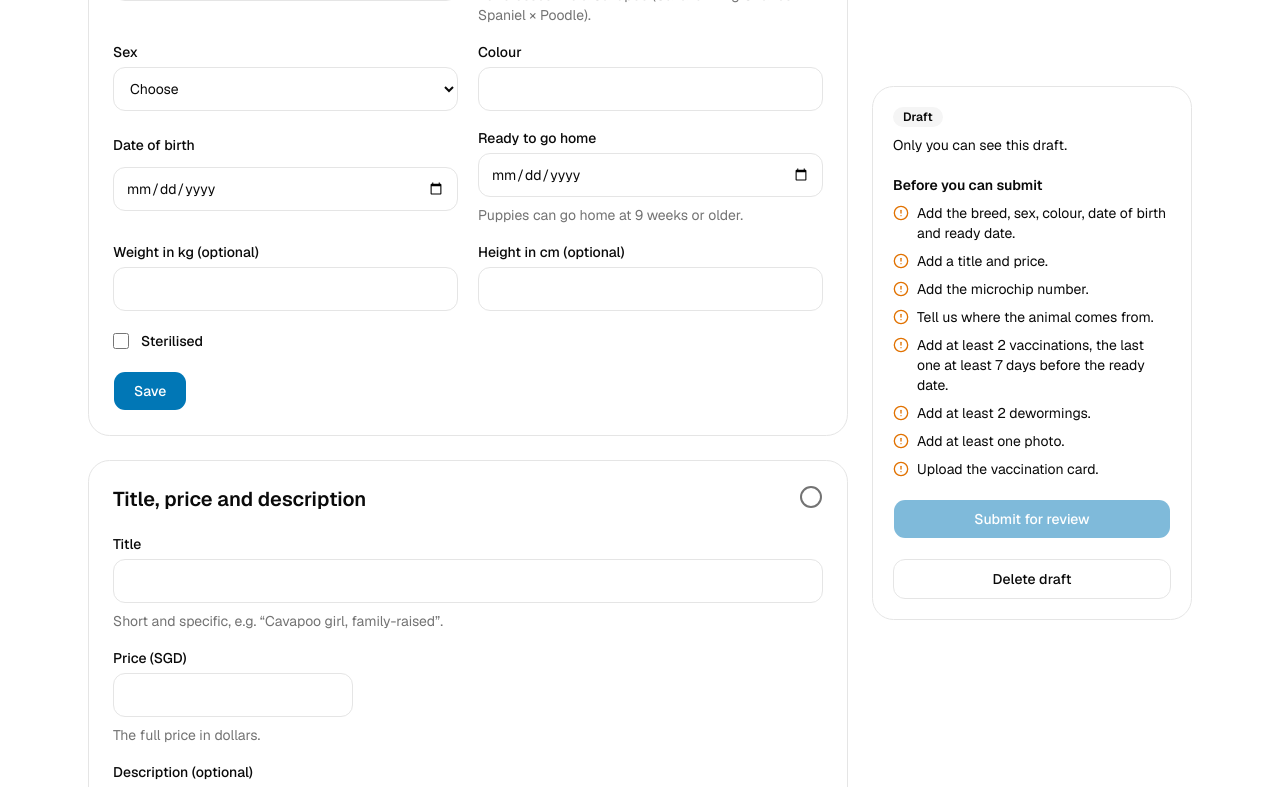
Test case: editor forms › save each section and show Saved
The width and height of the screenshot is (1280, 787).
(page scrolled)
Click the button "Save" at (150, 391), box x1=113 y1=371 x2=187 y2=411
(page scrolled)
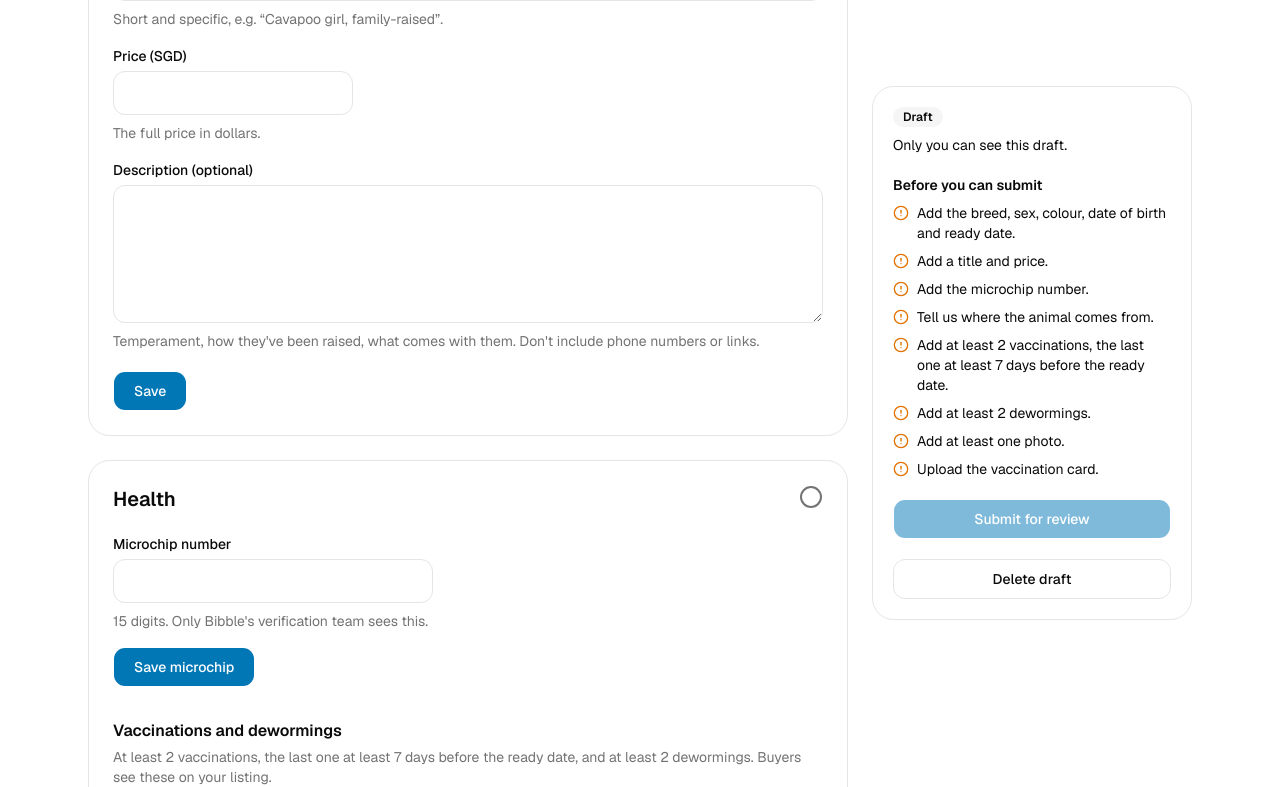
Click the button "Save" at (150, 391), box x1=113 y1=371 x2=187 y2=411
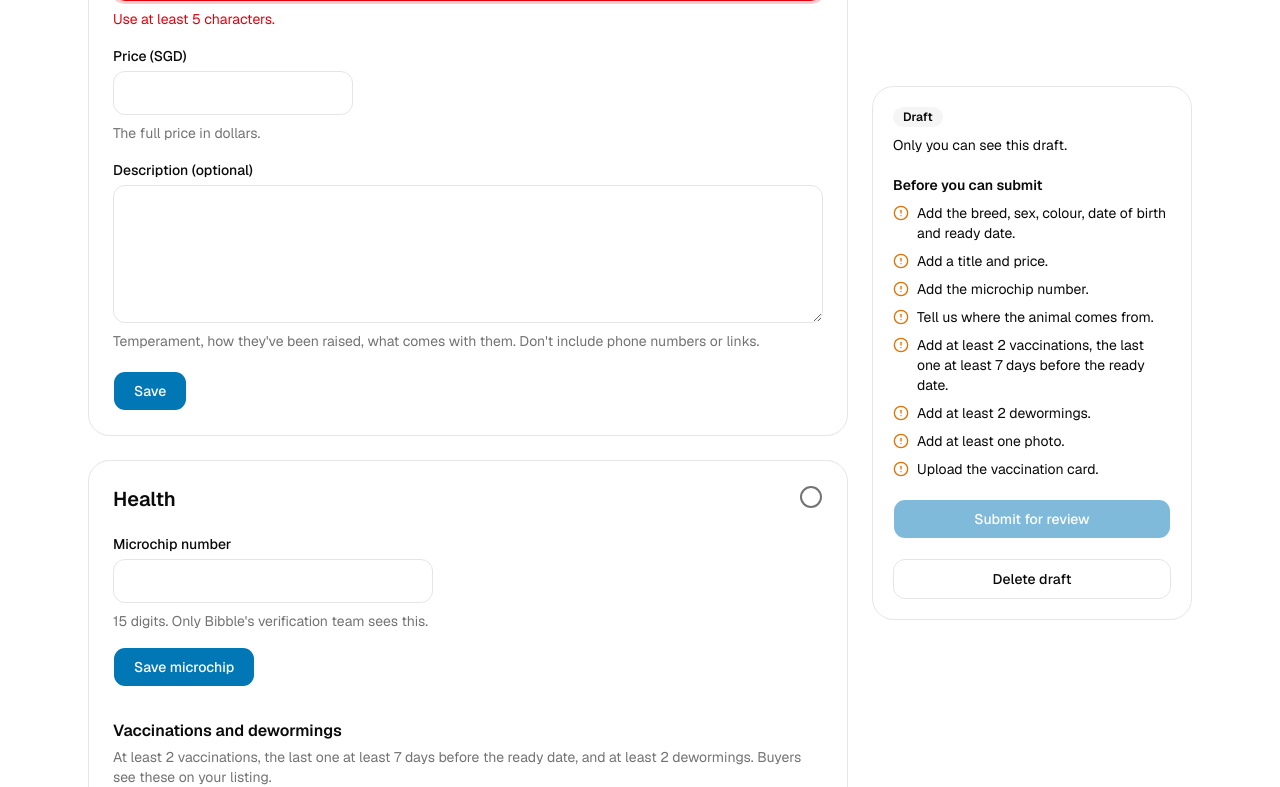
Expected: the text "Use at least 5 characters." is shown, x1=113 y1=10 x2=275 y2=28
Click the button "Save microchip" at (184, 667), box x1=113 y1=647 x2=255 y2=687
(page scrolled)
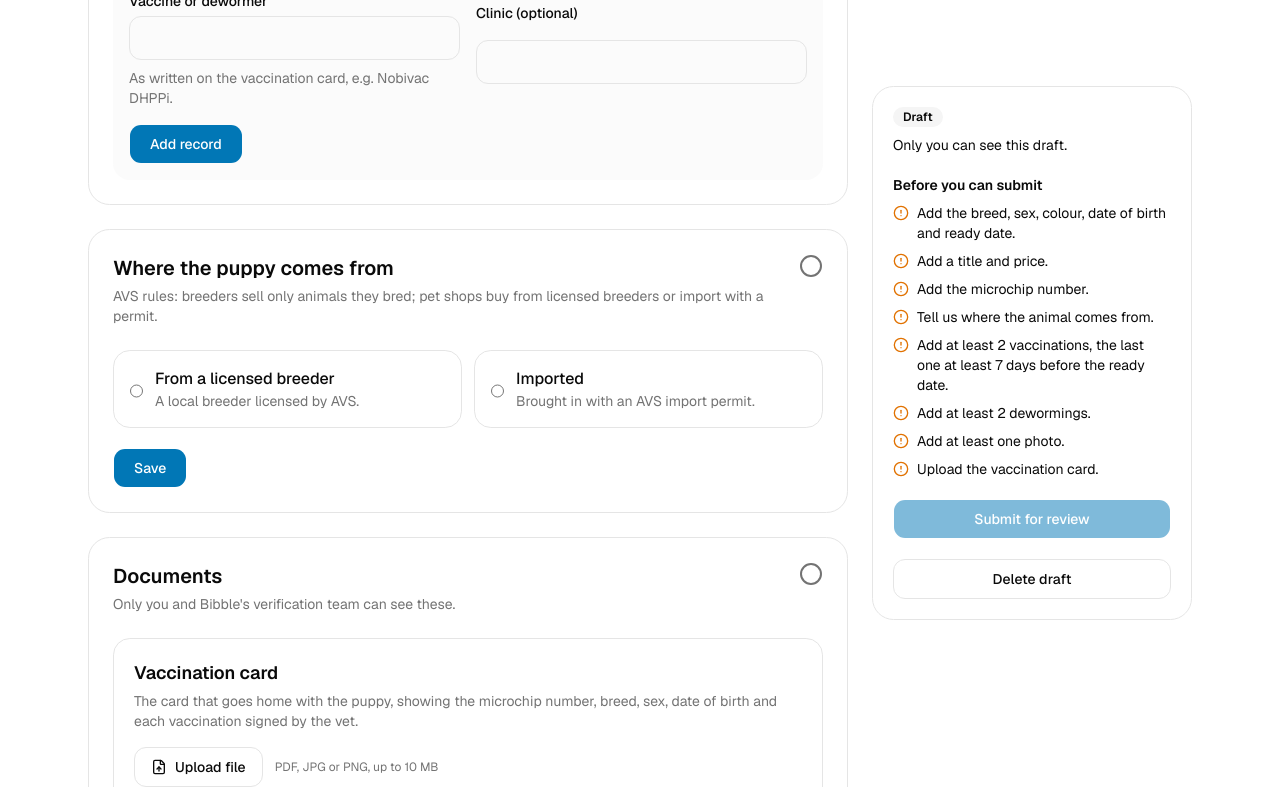
Click the radio button labelled "From a licensed breeder A local breeder licensed by AVS." at (136, 391), box x1=130 y1=371 x2=143 y2=411
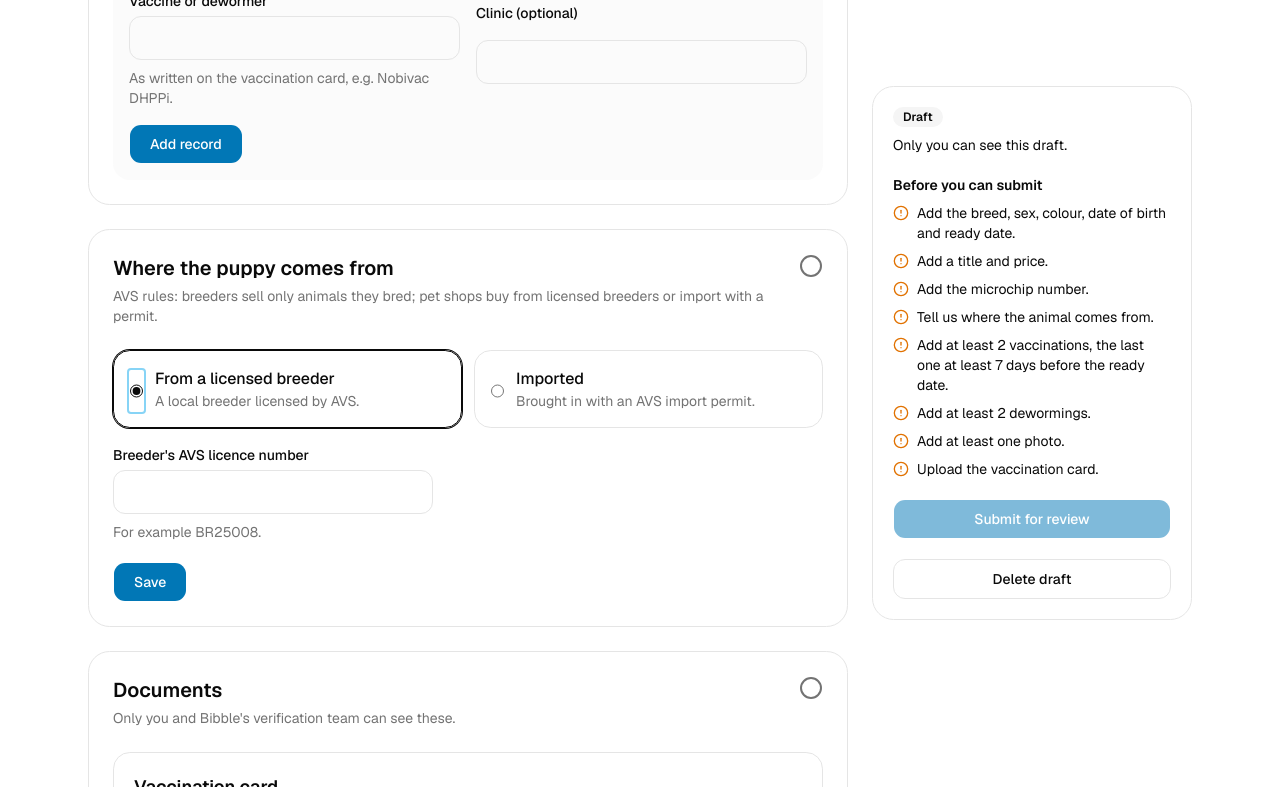
Expected: the field labelled "Breeder's AVS licence number" is shown, x1=113 y1=470 x2=433 y2=514
Click the radio button labelled "Imported Brought in with an AVS import permit." at (498, 391), box x1=491 y1=371 x2=504 y2=411
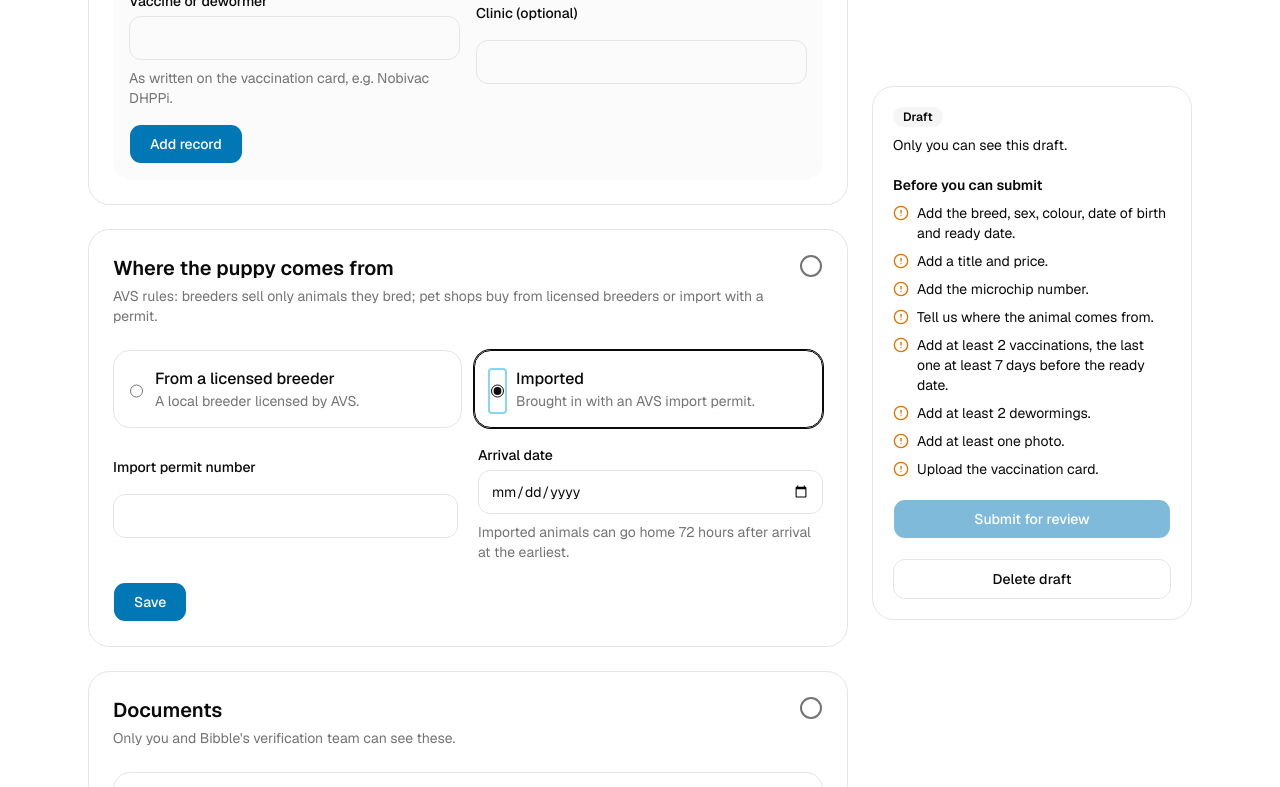
Expected: the date field labelled "Arrival date" is shown, x1=478 y1=470 x2=823 y2=514
Click the button "Save" at (150, 602), box x1=113 y1=582 x2=187 y2=622
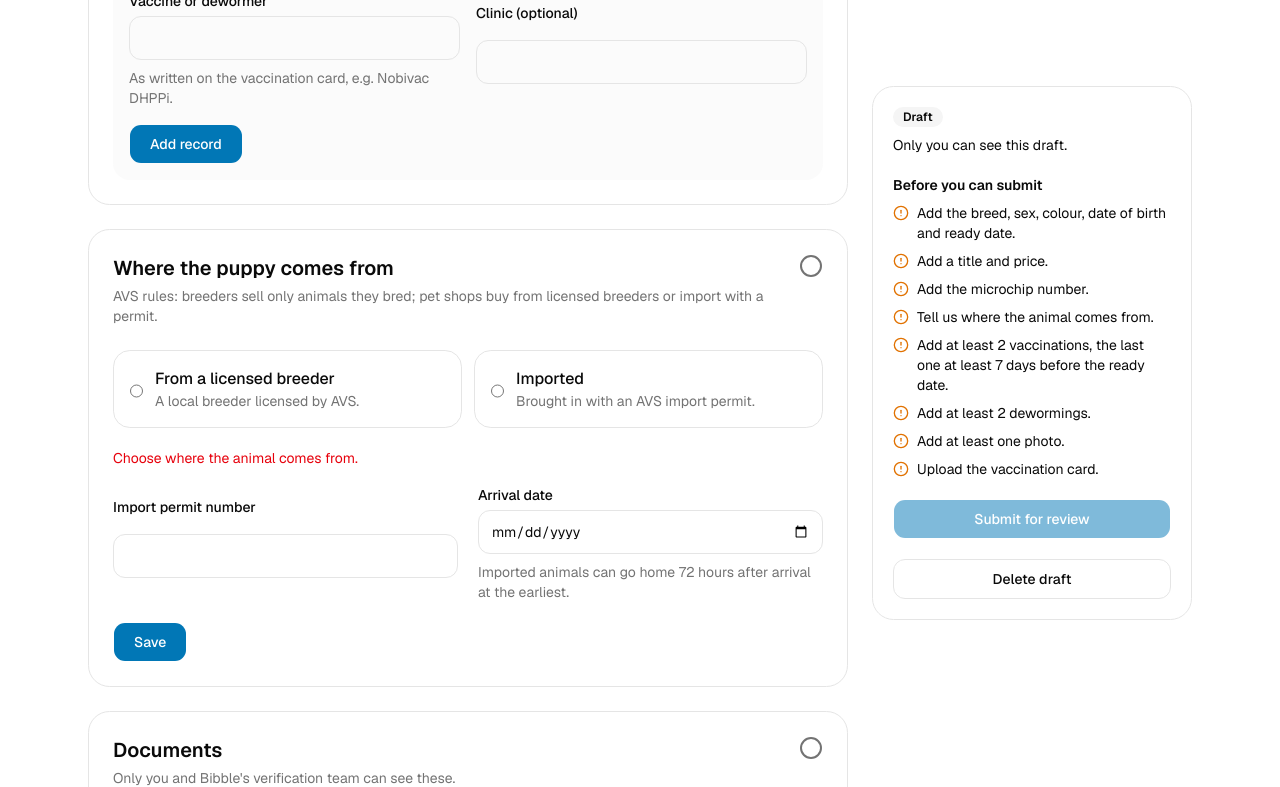
Expected: the text "Choose where the animal comes from." is shown, x1=113 y1=449 x2=358 y2=467
